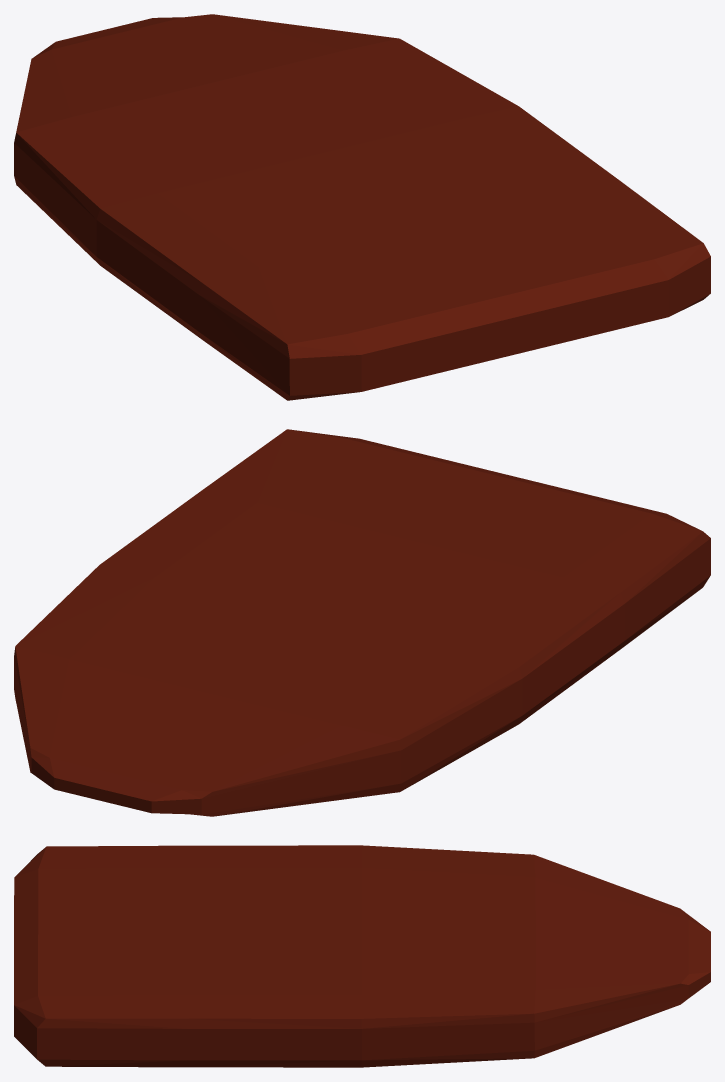
File: micromouse_chassis.dae
3 views of the same model, one above another, from view 1: azimuth 30°, elevation 25°; view 2: azimuth 150°, elevation 25°; view 3: azimuth 270°, elevation 25° (orthographic). The views are drawn at different scales.
Parts seen in each view (by area): view 1: Cube; view 2: Cube; view 3: Cube.
Part boxes in pixels (left/top/right/bottom): Cube: left=14, top=14, right=710, bottom=400; Cube: left=14, top=429, right=710, bottom=816; Cube: left=14, top=845, right=710, bottom=1067.
Bounding box in the file's own units: 1.2 × 2.01 × 0.1601.
